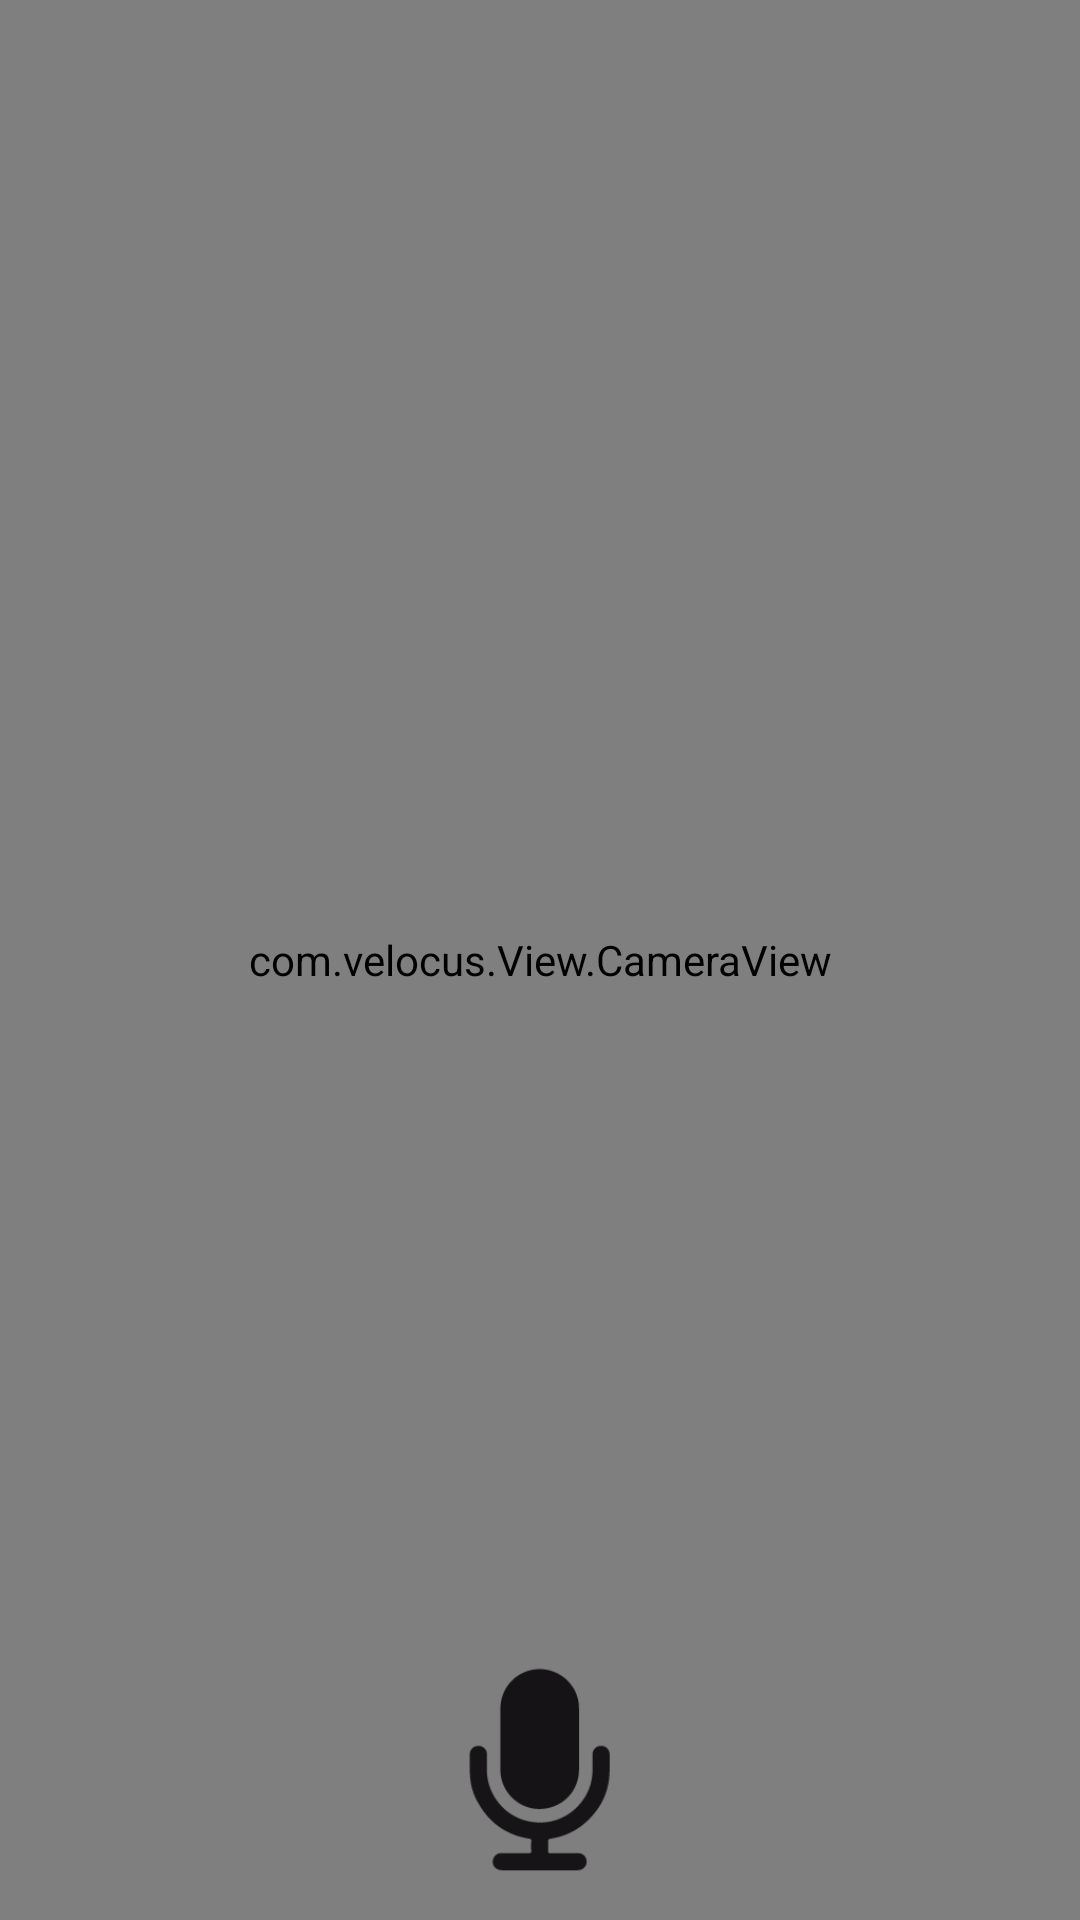

Screen size 1080px×1920px. Icon name, then its center in pixels as point (x, y):
black microphone: point (539, 1770)
